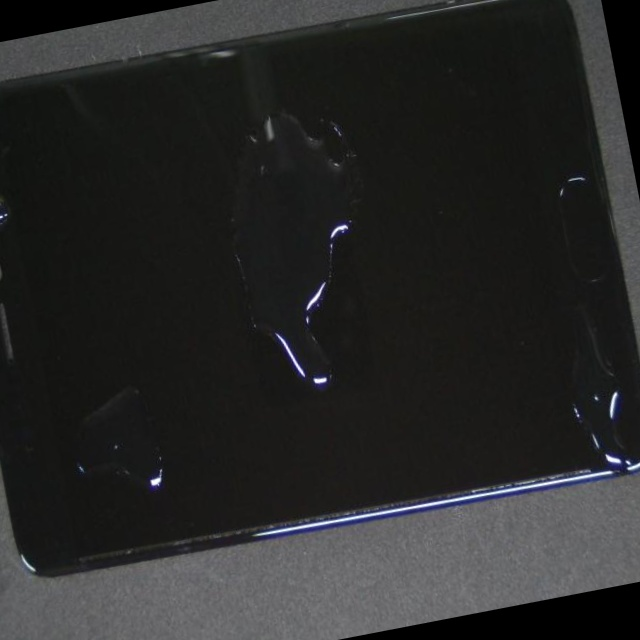oil: (200, 150, 640, 640), (65, 92, 495, 564), (41, 240, 282, 629)
